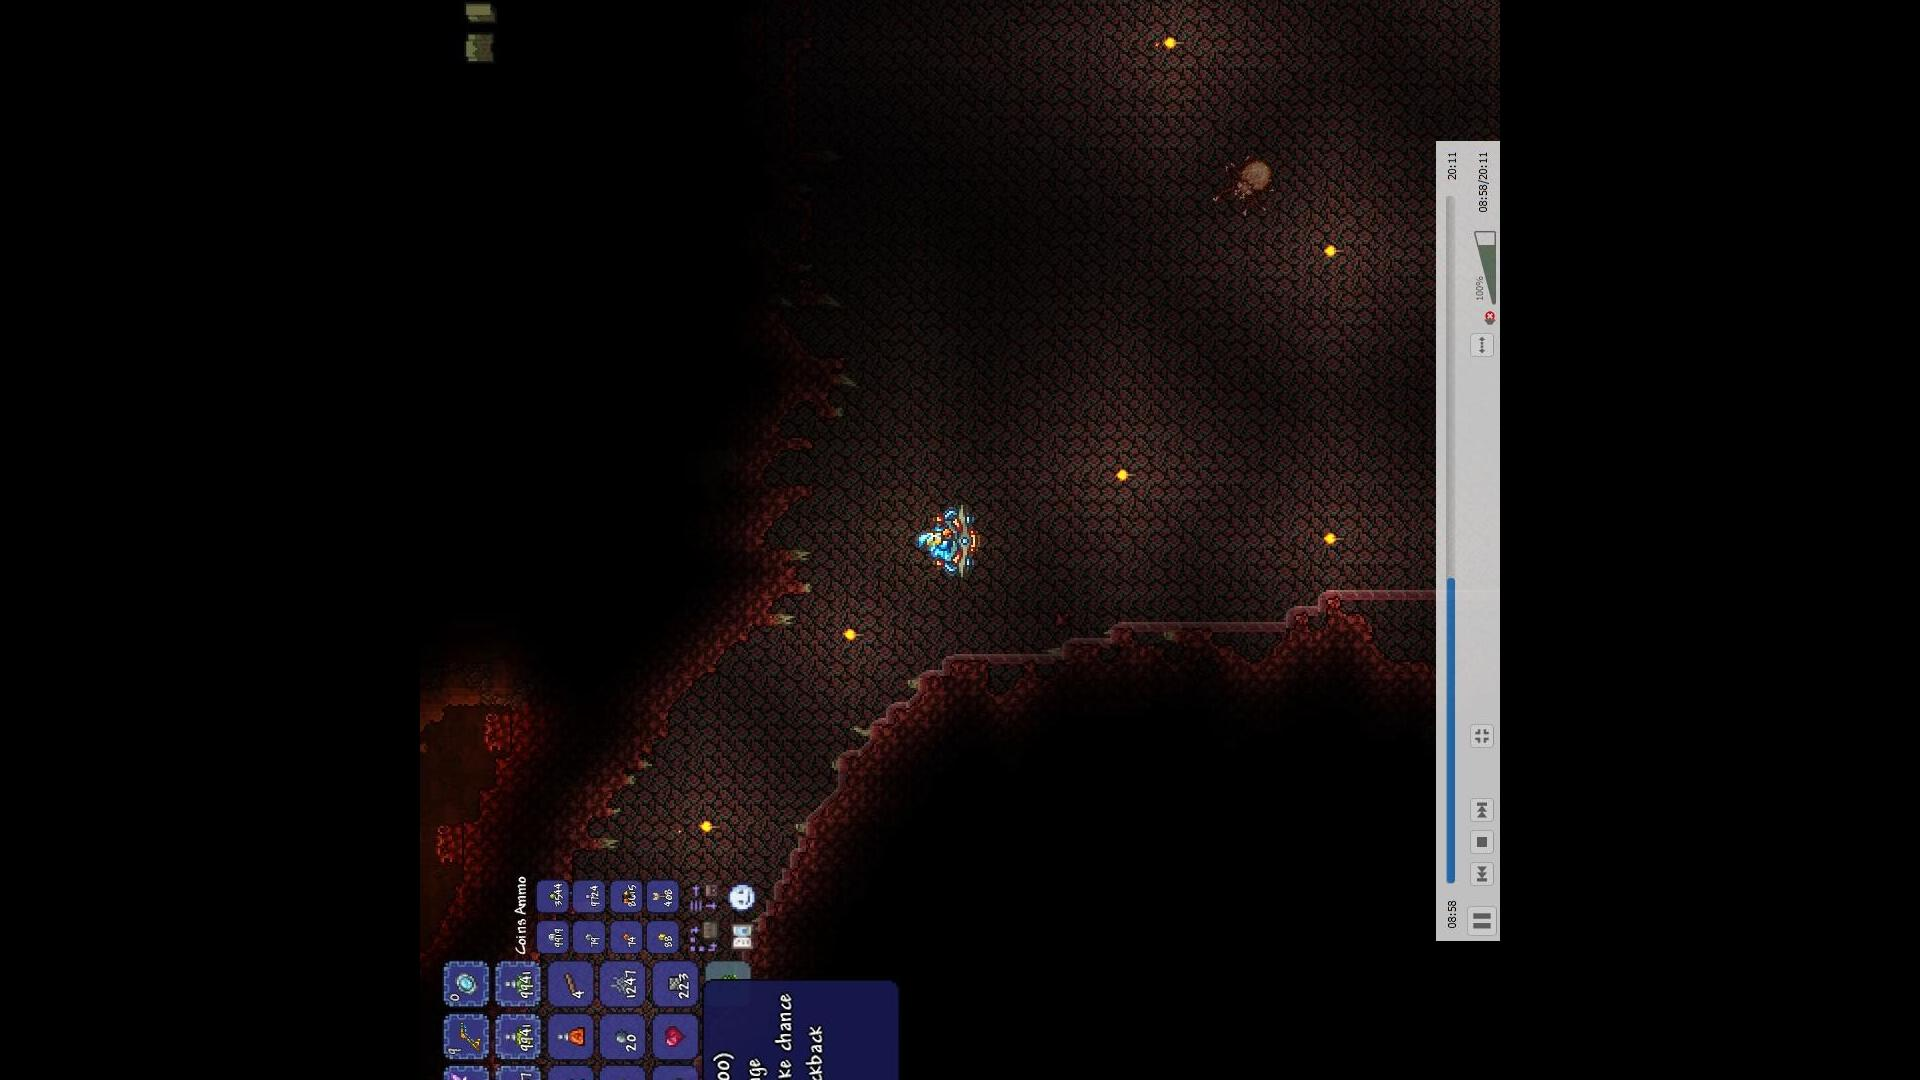lifeC: (659, 1022, 684, 1047)
mirror: (451, 971, 480, 996)
spider: (1205, 146, 1279, 218)
